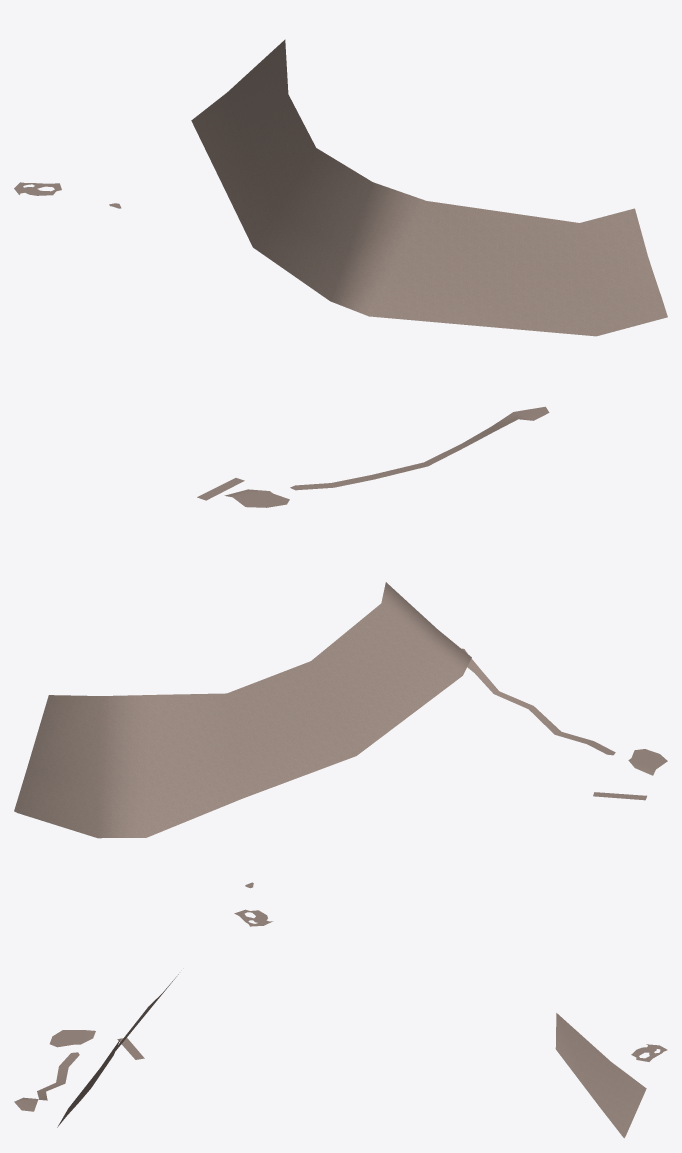
File: kd_stage_1364a3_7_14_bounded.glb
3 renders of one model, top to bottom at view 1: azimuth 30°, elevation 25°; view 2: azimuth 150°, elevation 25°; view 3: azimuth 270°, elevation 25°, orthographic. The views are drawn at different scales.
Visible parts, largest first — view 1: kd_stage_1364a3_7_14_bounded; view 2: kd_stage_1364a3_7_14_bounded; view 3: kd_stage_1364a3_7_14_bounded.
Part boxes in pixels (x1,y1,x2,y2): kd_stage_1364a3_7_14_bounded: (14, 39, 667, 507); kd_stage_1364a3_7_14_bounded: (14, 582, 667, 926); kd_stage_1364a3_7_14_bounded: (14, 974, 667, 1138).
Bounding box in the file's own units: 186 × 87.4 × 284.
Materials: 1 (1 with a texture image).
